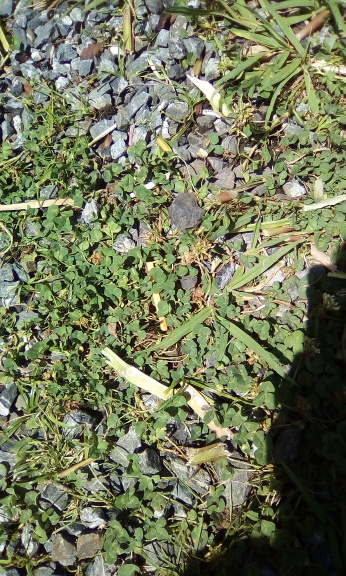4leaf: (150, 269, 178, 293)
